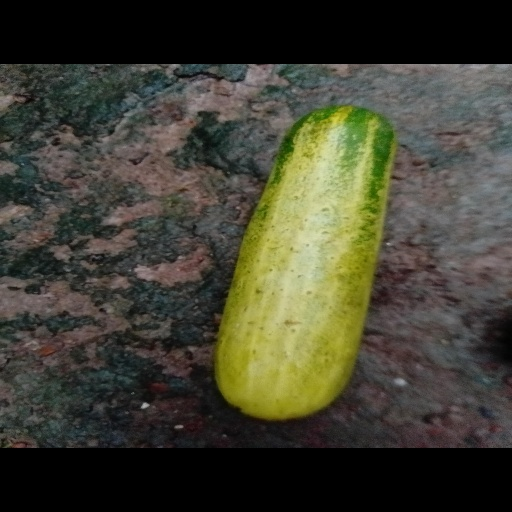concombre: (213, 105, 395, 422)
